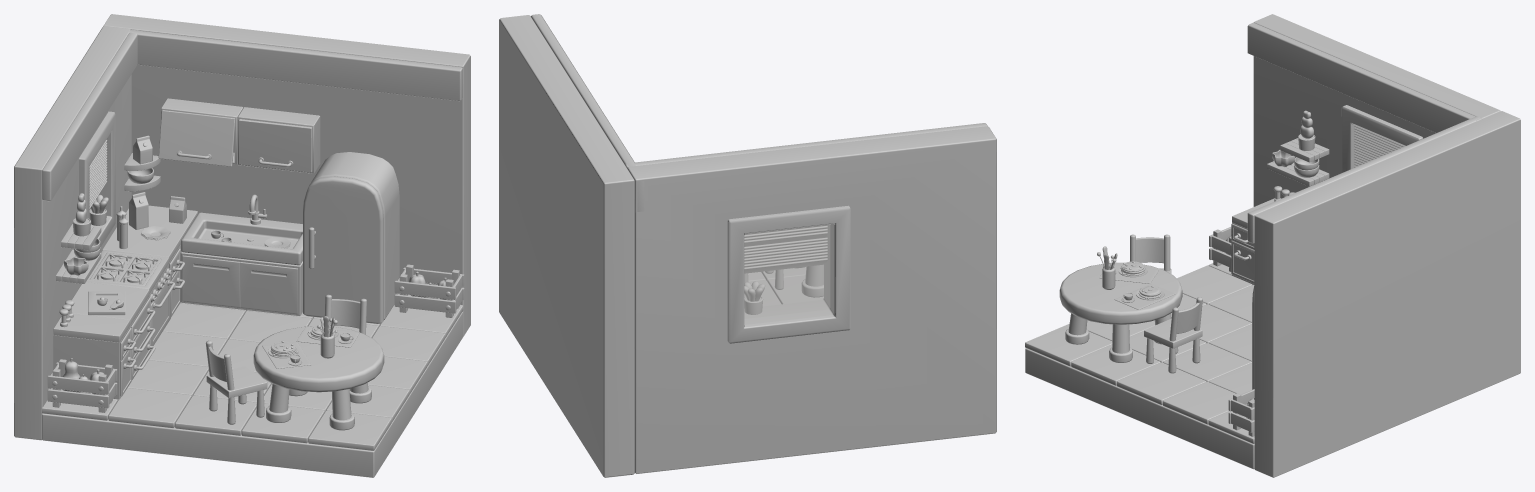
Rendered from Kitchen_32.fbx.
3 views of the same model, side by side, from view 1: azimuth 30°, elevation 25°; view 2: azimuth 150°, elevation 25°; view 3: azimuth 270°, elevation 25° (orthographic). The views are drawn at different scales.
Parts seen in each view (by area): view 1: Room_32_Wall_2, Room_32_Floor_2, Room_32_Wall_1, Room_32_Fridge_1, Room_32_Floor_1, Room_32_Washstand_1, Room_32_Table_1, Room_32_Kitchen_cabinet_4, Room_32_Kitchen_cabinet_5, Room_32_Kitchen_cabinet_2, Room_32_Gas_stove_1, Room_32_Window_1 (+13 smaller); view 2: Room_32_Wall_1, Room_32_Wall_2, Room_32_Window_1, Room_32_Floor_2, Room_32_Table_1, Room_32_Plant_1; view 3: Room_32_Wall_2, Room_32_Wall_1, Room_32_Floor_2, Room_32_Floor_1, Room_32_Table_1, Room_32_Window_1, Room_32_Chair_1, Room_32_Kitchen_cabinet_2, Room_32_Chair_2, Room_32_Box_2, Room_32_Box_1, Room_32_Shelf_2 (+3 smaller).
Part boxes in pixels (<box>): Room_32_Wall_2: <box>103,14,470,336</box>; Room_32_Floor_2: <box>42,302,463,450</box>; Room_32_Wall_1: <box>14,26,137,440</box>; Room_32_Fridge_1: <box>303,152,399,323</box>; Room_32_Floor_1: <box>42,312,463,477</box>; Room_32_Washstand_1: <box>180,212,302,315</box>; Room_32_Table_1: <box>253,326,384,430</box>; Room_32_Kitchen_cabinet_4: <box>237,107,320,173</box>; Room_32_Kitchen_cabinet_5: <box>158,98,243,166</box>; Room_32_Kitchen_cabinet_2: <box>53,313,135,399</box>; Room_32_Gas_stove_1: <box>86,250,175,349</box>; Room_32_Window_1: <box>79,111,115,246</box>; Room_32_Wall_1: <box>625,123,996,473</box>; Room_32_Wall_2: <box>499,14,644,477</box>; Room_32_Window_1: <box>727,205,850,343</box>; Room_32_Floor_2: <box>744,267,823,306</box>; Room_32_Table_1: <box>795,264,823,297</box>; Room_32_Plant_1: <box>744,281,764,314</box>; Room_32_Wall_2: <box>1247,111,1520,477</box>; Room_32_Wall_1: <box>1247,14,1500,206</box>; Room_32_Floor_2: <box>1025,263,1254,443</box>; Room_32_Floor_1: <box>1025,348,1254,469</box>; Room_32_Table_1: <box>1059,262,1182,362</box>; Room_32_Window_1: <box>1341,105,1422,172</box>; Room_32_Chair_1: <box>1144,297,1202,373</box>; Room_32_Kitchen_cabinet_2: <box>1231,198,1274,284</box>; Room_32_Chair_2: <box>1130,234,1171,273</box>; Room_32_Box_2: <box>1228,389,1254,436</box>; Room_32_Box_1: <box>1209,227,1231,271</box>; Room_32_Shelf_2: <box>1267,161,1329,186</box>.
Bounding box in the file's own units: 703 × 400 × 704.
